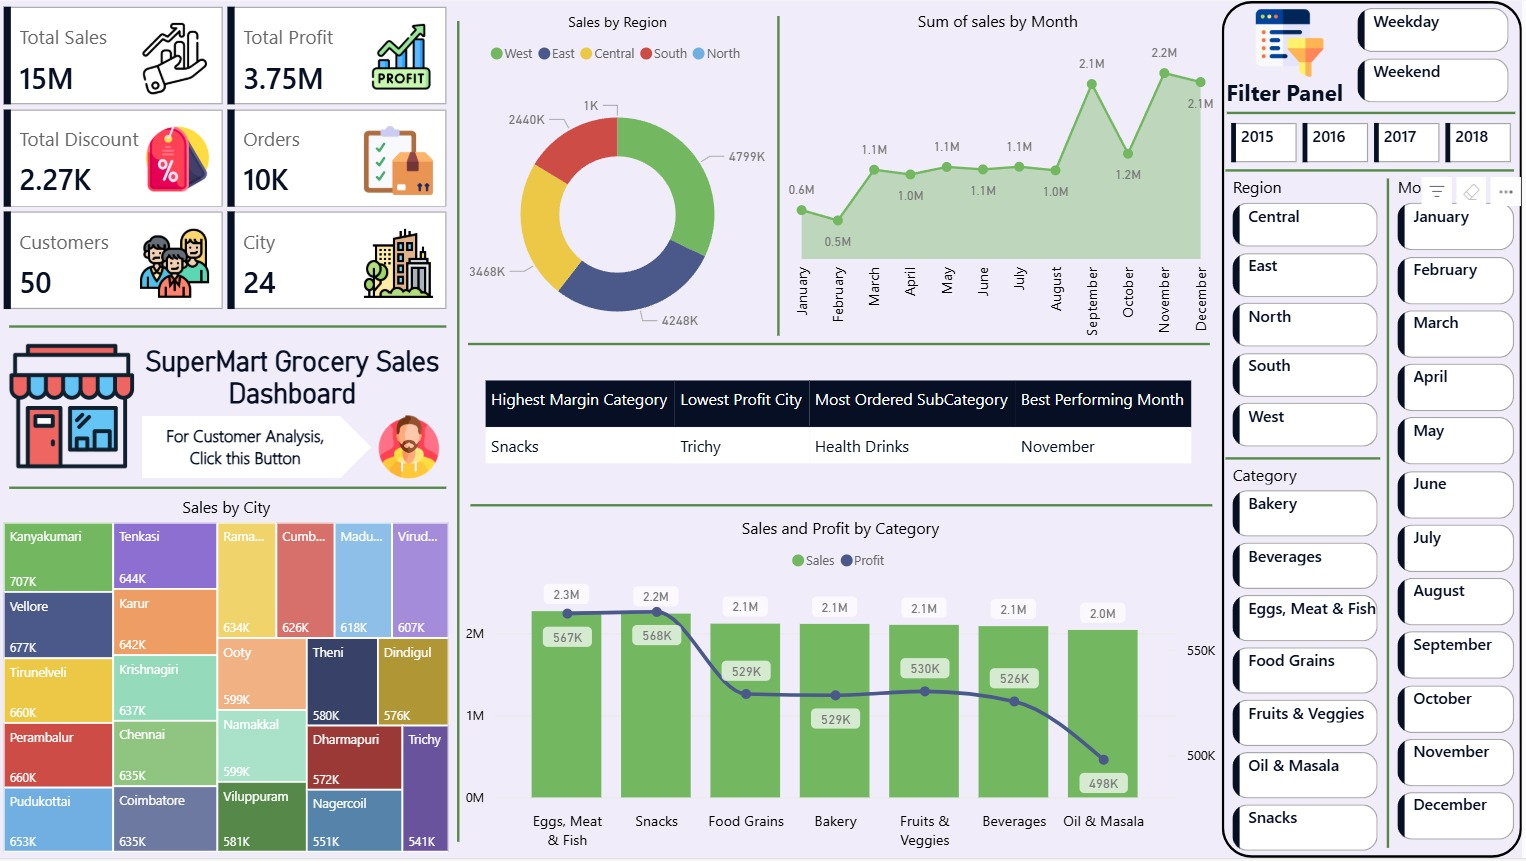

Layout of this report page (visuals, bound fields, positions):
{"tool":"powerbi","page":{"name":"Overview","canvas":[1280,720],"ordinal":0},"visuals":[{"type":"shape","box":[1027.7,0,252.3,719.8],"z":0},{"type":"advancedSlicerVisual","title":"Category","fields":{"Values":["cleaned_supermart_sales.category"]},"box":[1032.5,388.8,132.5,331.2],"z":1000},{"type":"advancedSlicerVisual","fields":{"Values":["custom_calender.date.Variation.Date Hierarchy.Month"]},"box":[1171.2,147.5,108.8,572.5],"z":2000},{"type":"advancedSlicerVisual","fields":{"Values":["custom_calender.date.Variation.Date Hierarchy.Year"]},"box":[1031.2,97.5,248.8,43.8],"z":3000},{"type":"advancedSlicerVisual","fields":{"Values":["cleaned_supermart_sales.region"]},"box":[1032.5,147.5,132.5,233.8],"z":4000},{"type":"advancedSlicerVisual","fields":{"Values":["cleaned_supermart_sales.week_type"]},"box":[1137.5,1.2,137.5,90],"z":5000},{"type":"image","box":[1041.2,2.5,88.8,66.2],"z":6000},{"type":"textbox","box":[1027.5,58.8,110,47.5],"z":7000},{"type":"shape","box":[1031.2,375,130,18.8],"z":8000},{"type":"shape","box":[1161.2,148.8,12.5,562.5],"z":9000},{"type":"shape","box":[1031.2,135,242.5,13.8],"z":10000},{"type":"shape","box":[1032.5,87.5,242.5,13.8],"z":11000},{"type":"image","box":[0,281.4,124.4,117.4],"z":12000},{"type":"cardVisual","fields":{"Data":["Sum(cleaned_supermart_sales.sales)","Sum(cleaned_supermart_sales.profit)","Sum(cleaned_supermart_sales.discount)","CountNonNull(cleaned_supermart_sales.order_id)","Count(cleaned_supermart_sales.customer_name)","Count(cleaned_supermart_sales.city)"]},"box":[0,0,383.8,265],"z":13000},{"type":"lineChart","fields":{"Category":["custom_calender.date.Variation.Date Hierarchy.Month"],"Y":["Sum(cleaned_supermart_sales.sales)"]},"box":[652.3,7,375.6,290.7],"z":14000},{"type":"donutChart","fields":{"Y":["Sum(cleaned_supermart_sales.sales)"],"Category":["cleaned_supermart_sales.region"]},"box":[382.6,9.3,276.7,296.5],"z":15000},{"type":"shape","box":[379.1,16.3,15.1,689.5],"z":16000},{"type":"shape","box":[9.3,264,367.4,19.8],"z":17000},{"type":"shape","box":[9.3,398.8,367.4,19.8],"z":18000},{"type":"treemap","fields":{"Group":["cleaned_supermart_sales.city"],"Values":["Sum(cleaned_supermart_sales.sales)"]},"box":[0,416.3,383.7,304],"z":19000},{"type":"shape","box":[652.3,12.8,7,268.6],"z":20000},{"type":"textbox","box":[116.3,283.7,261.6,66.3],"z":21000},{"type":"lineClusteredColumnComboChart","title":"Sales and Profit by Category","fields":{"Category":["cleaned_supermart_sales.category"],"Y":["Sum(cleaned_supermart_sales.sales)"],"Y2":["Sum(cleaned_supermart_sales.profit)"]},"box":[387.2,433.7,640.7,286],"z":22000},{"type":"shape","box":[395.3,277.9,623.3,19.8],"z":23000},{"type":"shape","box":[396.5,414,623.3,19.8],"z":24000},{"type":"tableEx","fields":{"Values":["cleaned_supermart_sales.Highest Margin Category","cleaned_supermart_sales.Lowest Profit City","cleaned_supermart_sales.Most Ordered SubCategory","cleaned_supermart_sales.Best Performing Month"]},"box":[403.5,314,605.8,81.4],"z":25000},{"type":"image","box":[314,343,62.8,62.8],"z":26000},{"type":"shape","box":[120.9,348.8,193,52.3],"z":27000},{"type":"textbox","box":[124.4,351.2,167.4,47.7],"z":28000}]}

Visuals, with their boxes in screenshot pixels (x1, y1, x2, y2), scaled from the page's 1280x720 canvas onto the 1526x861 screenshot:
shape: crop(1225, 0, 1525, 860)
"Category" advancedSlicerVisual: crop(1231, 465, 1389, 860)
advancedSlicerVisual - custom_calender.date.Variation.Date Hierarchy.Month: crop(1396, 176, 1525, 860)
advancedSlicerVisual - custom_calender.date.Variation.Date Hierarchy.Year: crop(1229, 117, 1525, 169)
advancedSlicerVisual - cleaned_supermart_sales.region: crop(1231, 176, 1389, 456)
advancedSlicerVisual - cleaned_supermart_sales.week_type: crop(1356, 1, 1520, 109)
image: crop(1241, 3, 1347, 82)
textbox: crop(1225, 70, 1356, 127)
shape: crop(1229, 448, 1384, 471)
shape: crop(1384, 178, 1399, 851)
shape: crop(1229, 161, 1518, 178)
shape: crop(1231, 105, 1520, 121)
image: crop(0, 337, 148, 477)
cardVisual - Sum(cleaned_supermart_sales.sales) x Sum(cleaned_supermart_sales.profit): crop(0, 0, 458, 317)
lineChart - custom_calender.date.Variation.Date Hierarchy.Month x Sum(cleaned_supermart_sales.sales): crop(778, 8, 1225, 356)
donutChart - Sum(cleaned_supermart_sales.sales) x cleaned_supermart_sales.region: crop(456, 11, 786, 366)
shape: crop(452, 19, 470, 844)
shape: crop(11, 316, 449, 339)
shape: crop(11, 477, 449, 501)
treemap - cleaned_supermart_sales.city x Sum(cleaned_supermart_sales.sales): crop(0, 498, 457, 860)
shape: crop(778, 15, 786, 337)
textbox: crop(139, 339, 451, 419)
"Sales and Profit by Category" lineClusteredColumnComboChart: crop(462, 519, 1225, 860)
shape: crop(471, 332, 1214, 356)
shape: crop(473, 495, 1216, 519)
tableEx - cleaned_supermart_sales.Highest Margin Category x cleaned_supermart_sales.Lowest Profit City: crop(481, 375, 1203, 473)
image: crop(374, 410, 449, 485)
shape: crop(144, 417, 374, 480)
textbox: crop(148, 420, 348, 477)
